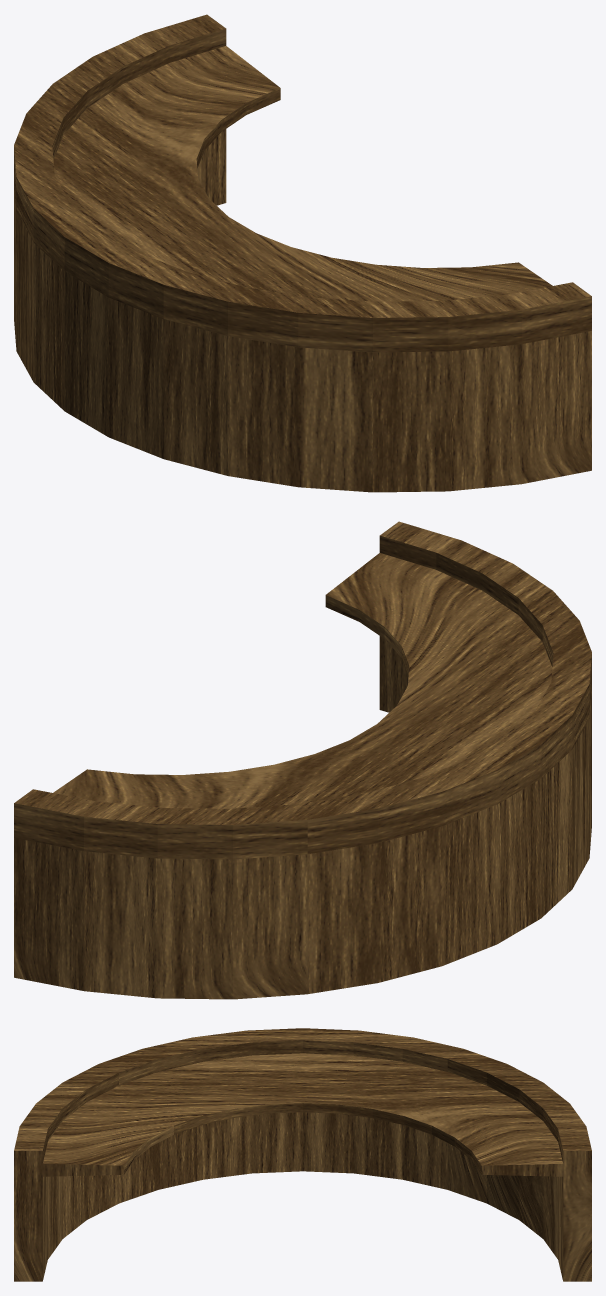
The model's file is desk.fbx.
3 renders of one model, top to bottom at view 1: azimuth 30°, elevation 25°; view 2: azimuth 150°, elevation 25°; view 3: azimuth 270°, elevation 25°, orthographic. The views are drawn at different scales.
Parts seen in each view (by area): view 1: Desk; view 2: Desk; view 3: Desk.
Part boxes in pixels (x1,y1,x2,y2): Desk: [14, 14, 591, 492]; Desk: [14, 521, 591, 999]; Desk: [14, 1028, 591, 1281].
Bounding box in the file's own units: 1005 × 500 × 2000.
